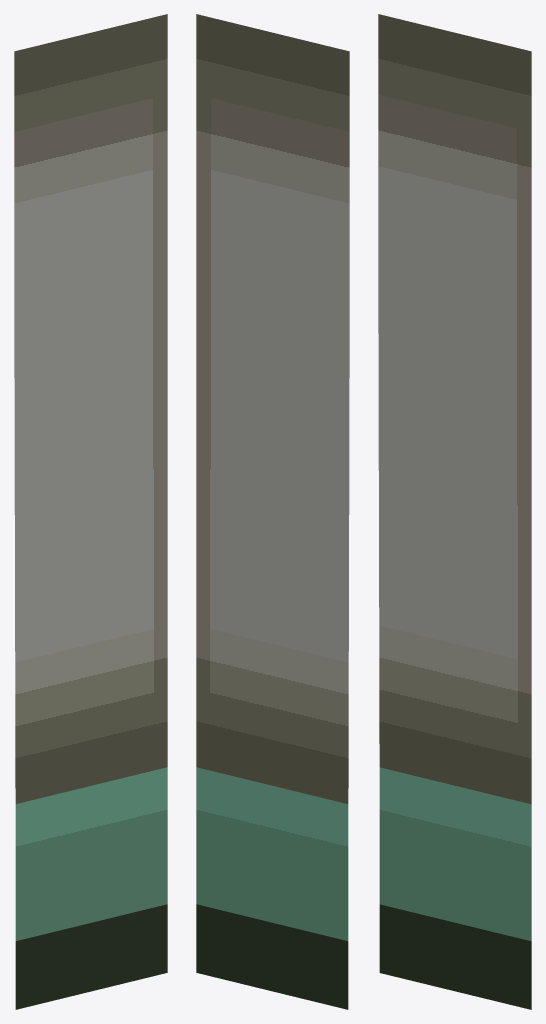
3 renders of one model, left to right at view 1: azimuth 30°, elevation 25°; view 2: azimuth 150°, elevation 25°; view 3: azimuth 330°, elevation 25°, orthographic.
Bounding box in the file's own units: 0.502 × 3 × 0.
1 material, 1 textured.
